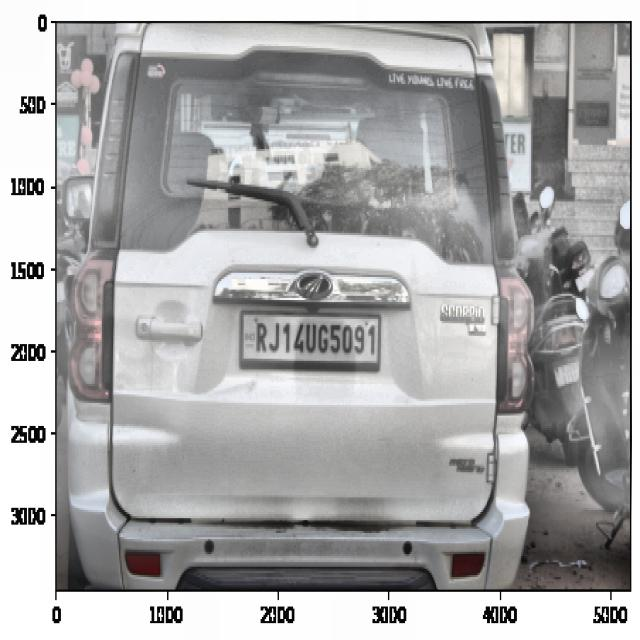license_plate: (253, 312, 379, 368)
